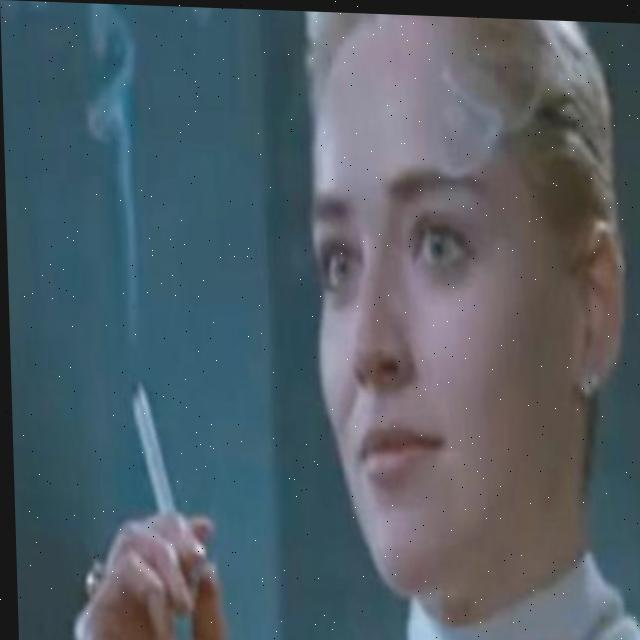cigarette: (127, 379, 171, 515)
